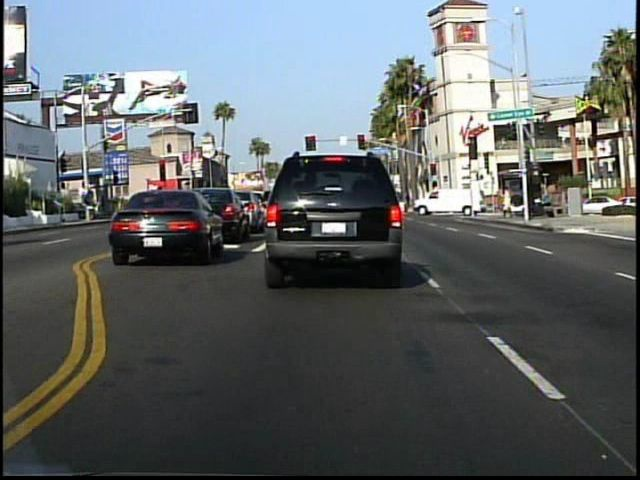person: (496, 183, 514, 221)
